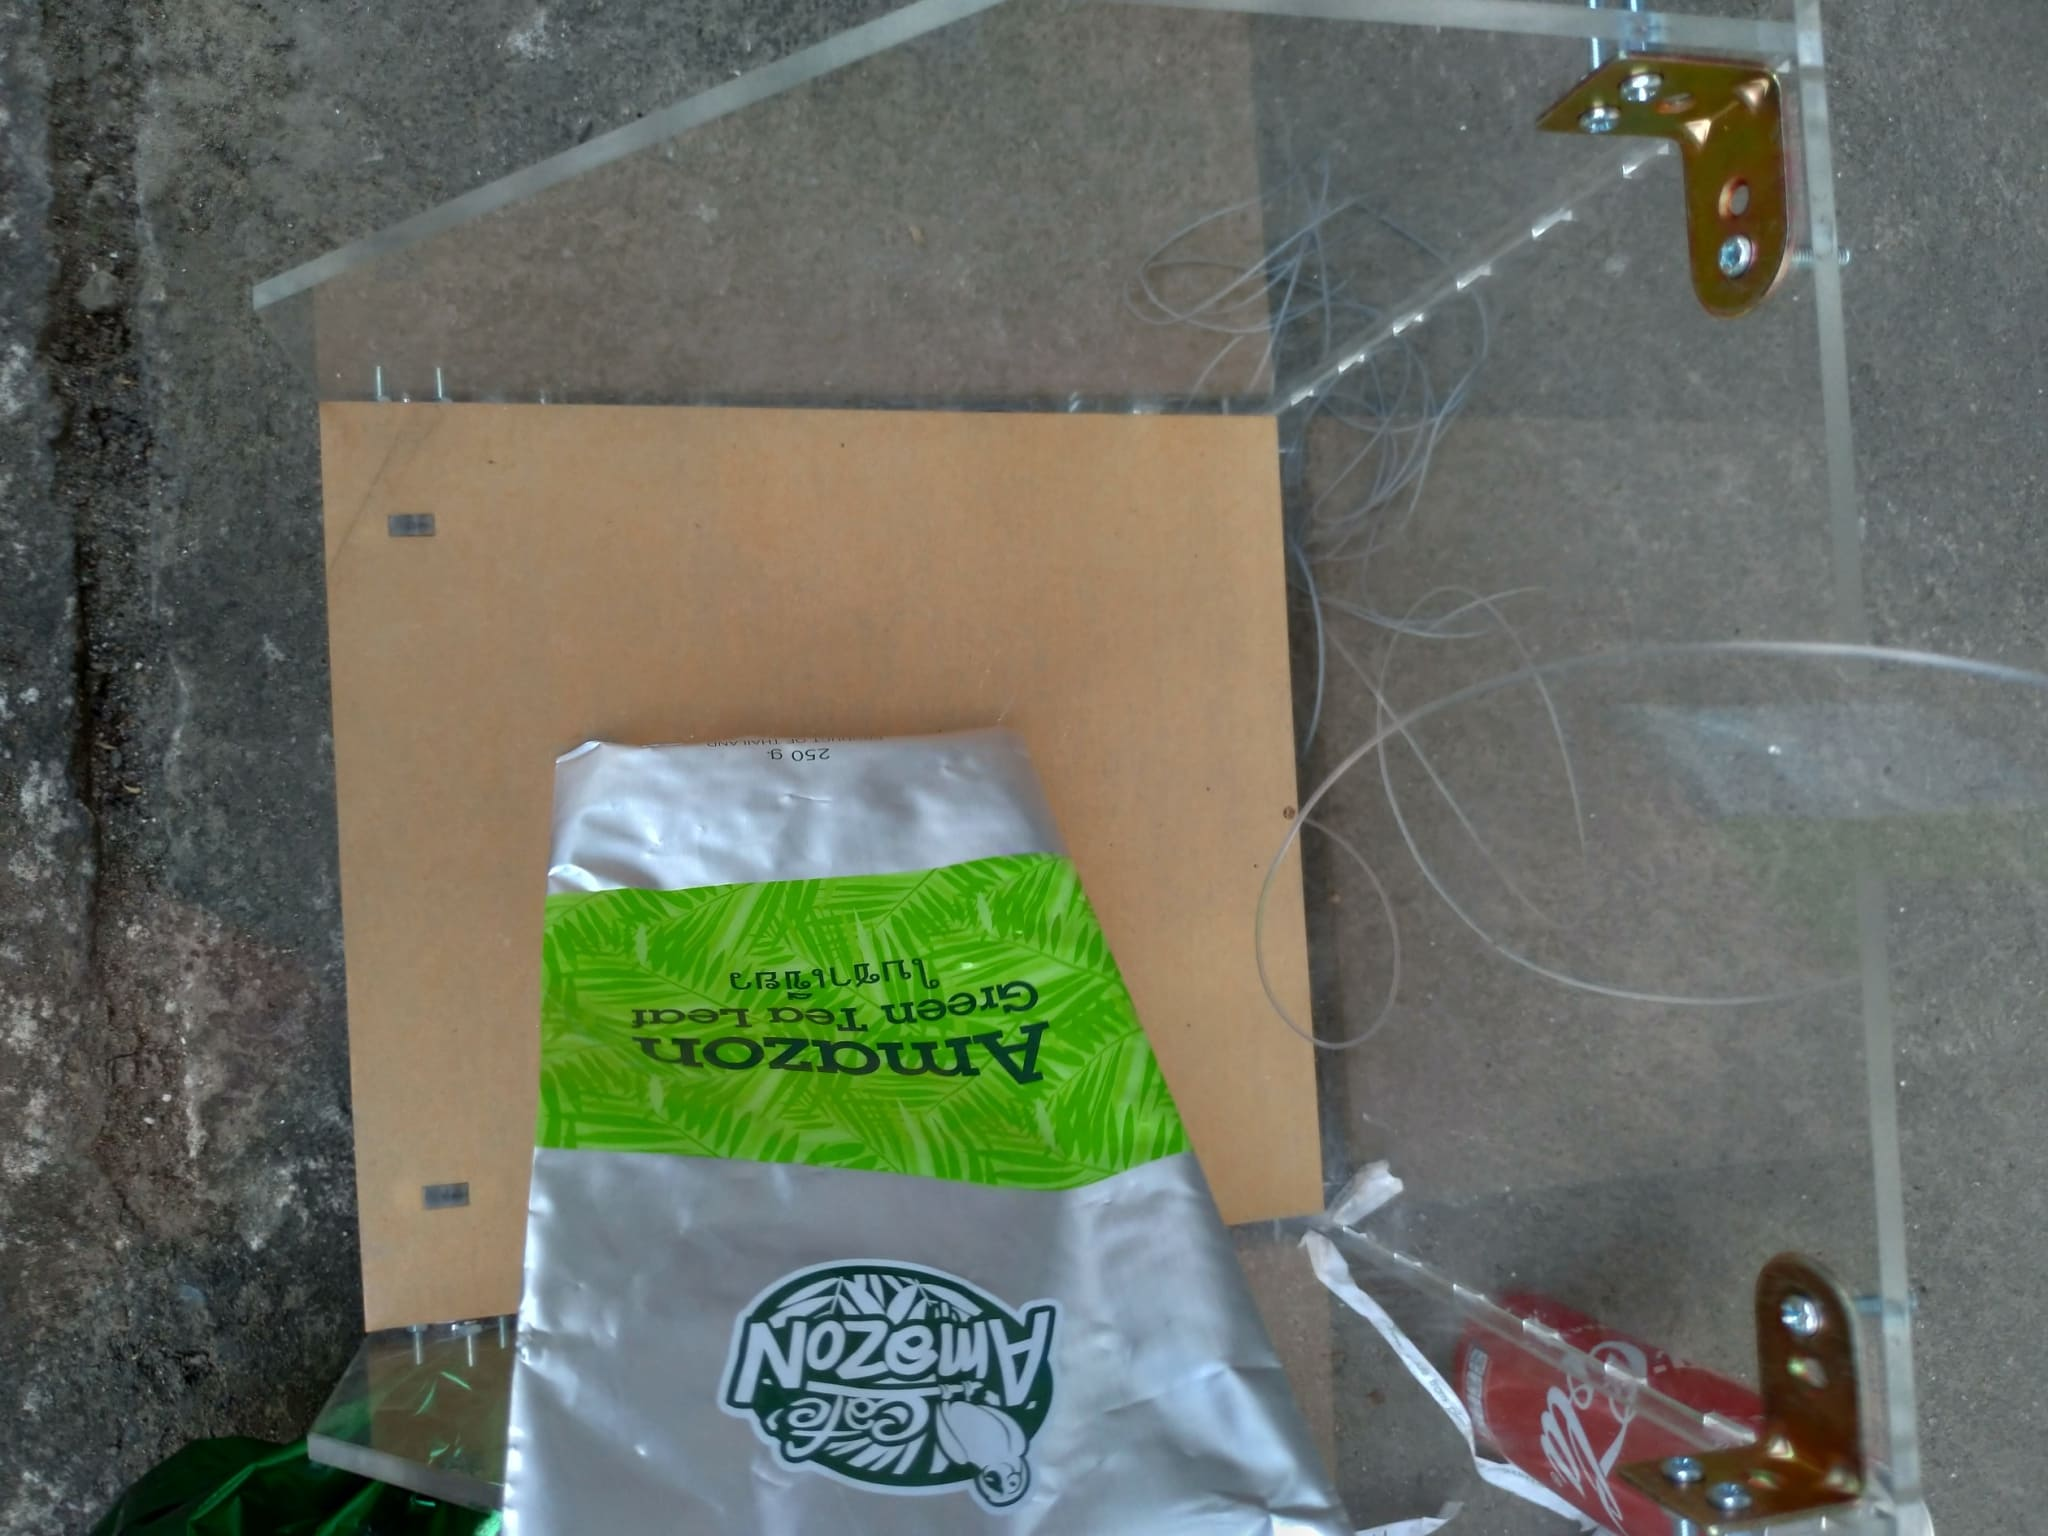AlCan: (1464, 1283, 1771, 1533)
Others: (498, 724, 1347, 1536), (98, 1304, 516, 1536)
